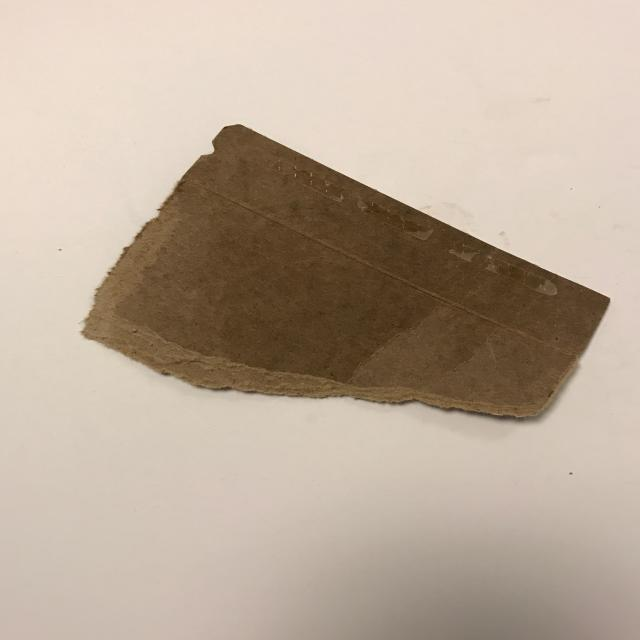paper: (75, 122, 612, 430)
